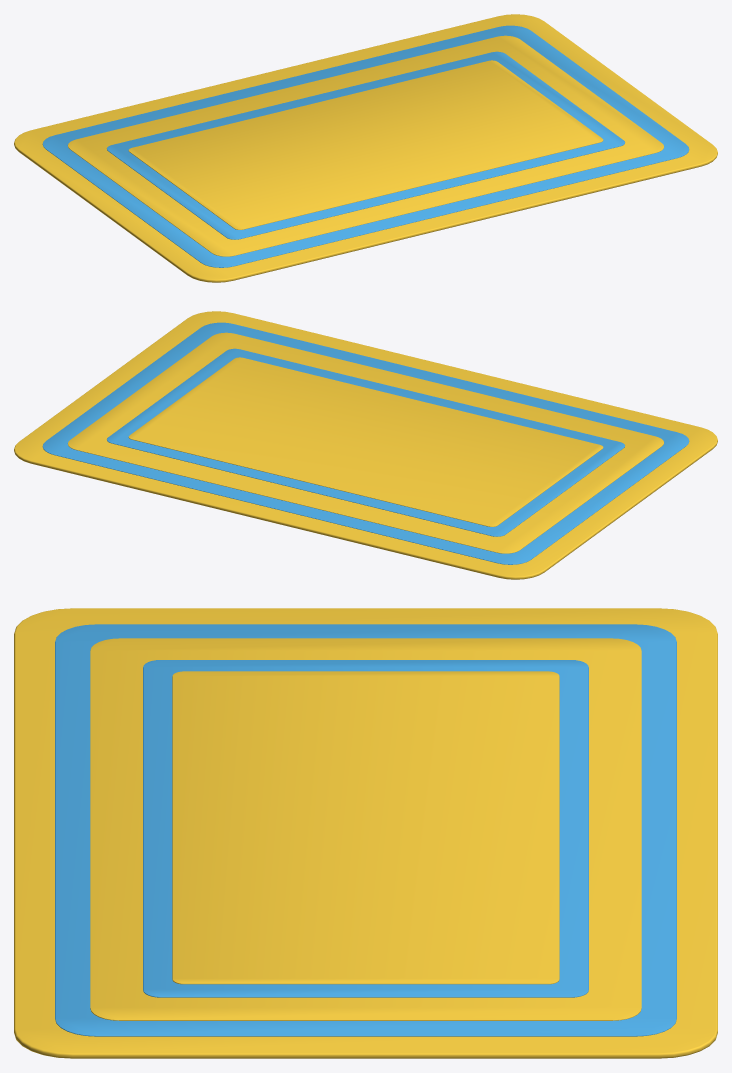
The model's file is tapete_molduras_azuis.glb.
The picture shows the model from 3 angles, top to bottom: view 1: azimuth 30°, elevation 25°; view 2: azimuth 150°, elevation 25°; view 3: azimuth 270°, elevation 25°; orthographic projection. The views are drawn at different scales.
Parts seen in each view (by area): view 1: tapete_molduras_azuis; view 2: tapete_molduras_azuis; view 3: tapete_molduras_azuis.
Part boxes in pixels (x1,y1,x2,y2): tapete_molduras_azuis: [14, 14, 717, 282]; tapete_molduras_azuis: [14, 311, 717, 579]; tapete_molduras_azuis: [14, 608, 717, 1058].
Size of the model in its own units: 1.8 by 0.0164 by 1.2.
1 material, 1 textured.
